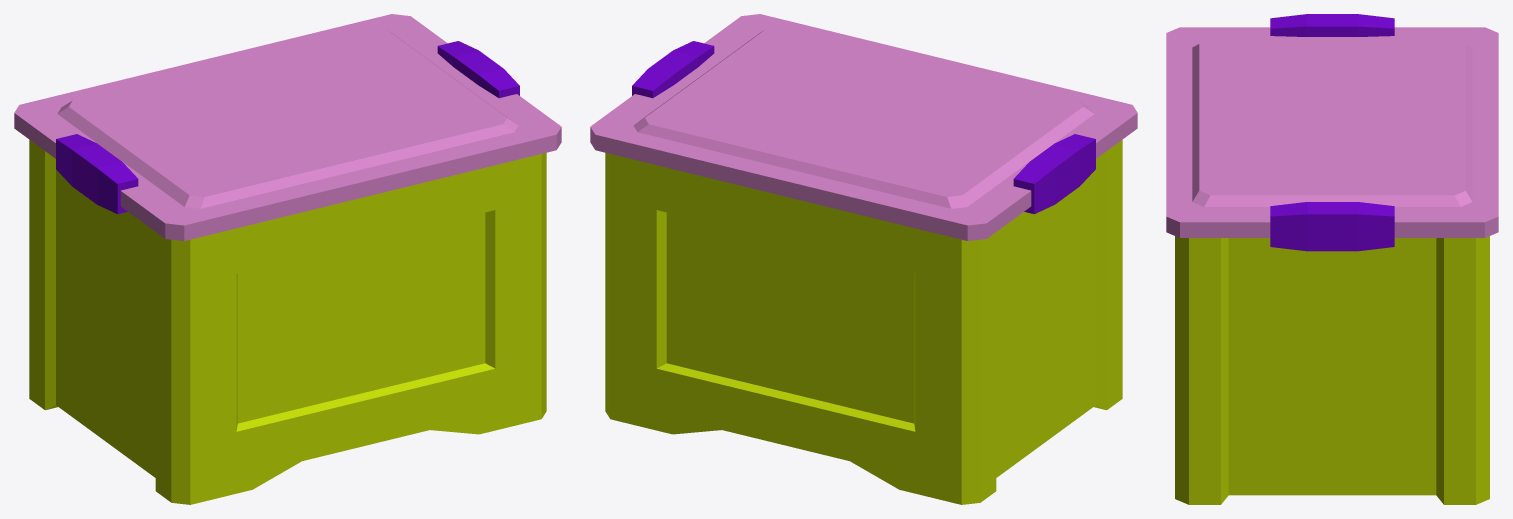
Rendered from storage_crate.glb.
The picture shows the model from 3 angles, left to right: view 1: azimuth 30°, elevation 25°; view 2: azimuth 150°, elevation 25°; view 3: azimuth 270°, elevation 25°; orthographic projection.
Parts seen in each view (by area): view 1: Cube.001, Cube.002, Cube.003; view 2: Cube.001, Cube.002, Cube.003; view 3: Cube.001, Cube.002, Cube.003.
Boxes of the visible parts, left/top/right/bottom form: Cube.001: left=29, top=140, right=546, bottom=504; Cube.002: left=14, top=14, right=561, bottom=240; Cube.003: left=56, top=41, right=519, bottom=214; Cube.001: left=605, top=140, right=1122, bottom=504; Cube.002: left=590, top=14, right=1137, bottom=240; Cube.003: left=632, top=41, right=1095, bottom=214; Cube.001: left=1175, top=236, right=1489, bottom=504; Cube.002: left=1166, top=27, right=1498, bottom=237; Cube.003: left=1270, top=14, right=1394, bottom=251.
Bounding box in the file's own units: 1.3 × 0.9006 × 0.9097.
